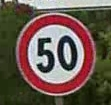limite 50: (13, 11, 97, 96)
